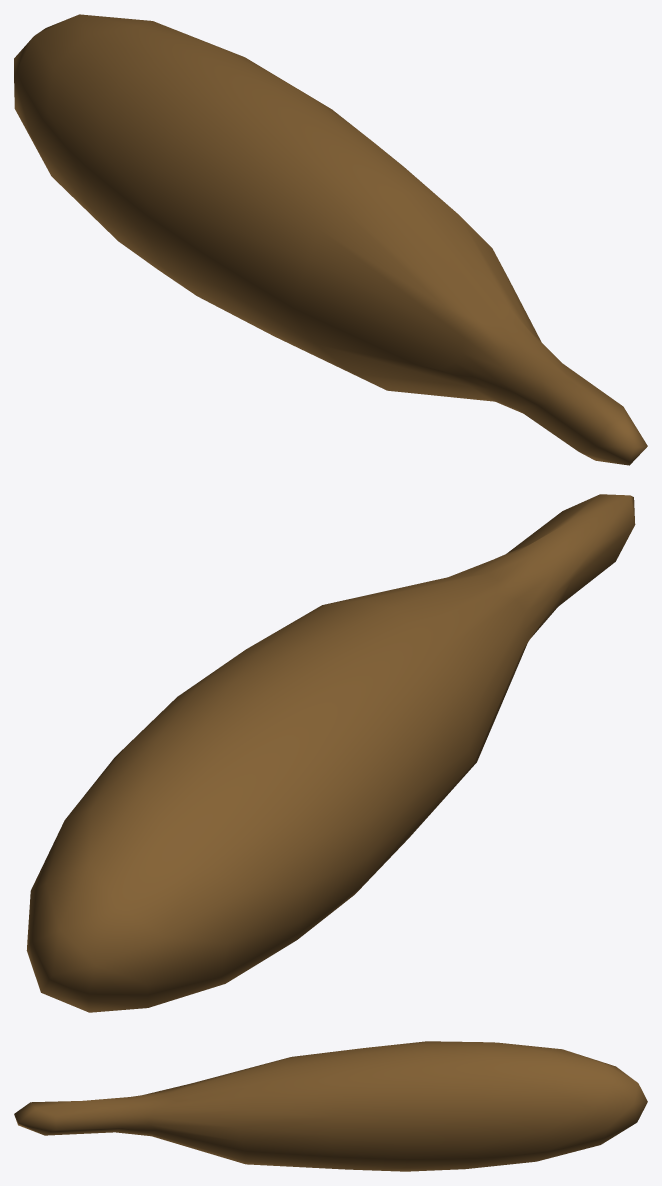
3 renders of one model, top to bottom at view 1: azimuth 30°, elevation 25°; view 2: azimuth 150°, elevation 25°; view 3: azimuth 270°, elevation 25°, orthographic. The views are drawn at different scales.
Visible parts, largest first — view 1: 1; view 2: 1; view 3: 1.
Boxes of the visible parts, bbox=[...] form: 1: bbox=[14, 14, 647, 465]; 1: bbox=[26, 494, 635, 1012]; 1: bbox=[14, 1041, 647, 1171].
Size of the model in its own units: 9.34 by 8.66 by 42.89.
